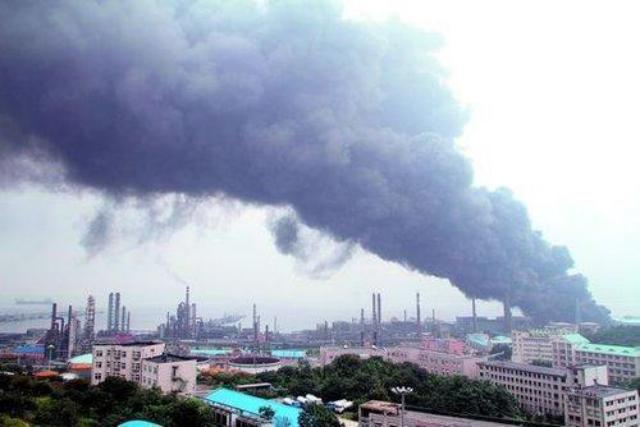smoke: (313, 64, 473, 229), (2, 67, 196, 188), (0, 0, 341, 67), (196, 67, 312, 206), (506, 233, 606, 320), (396, 230, 504, 294), (474, 173, 524, 230)
